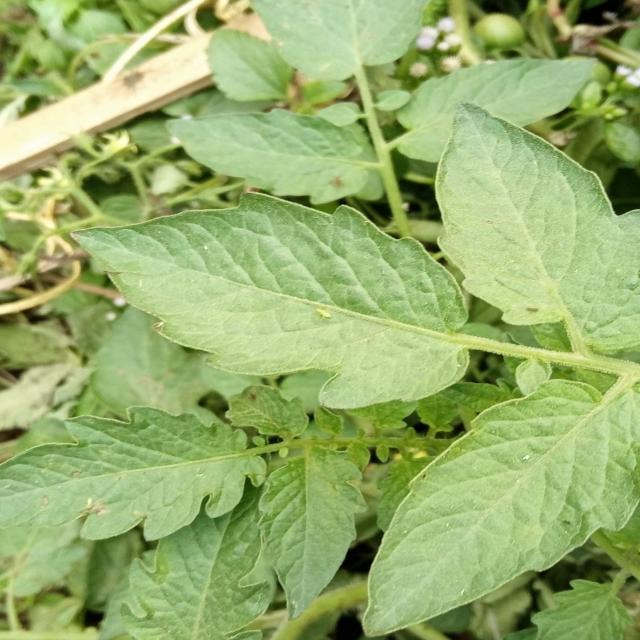Healthy: (51, 126, 503, 444), (302, 347, 640, 640), (380, 97, 640, 382), (242, 436, 393, 619)
